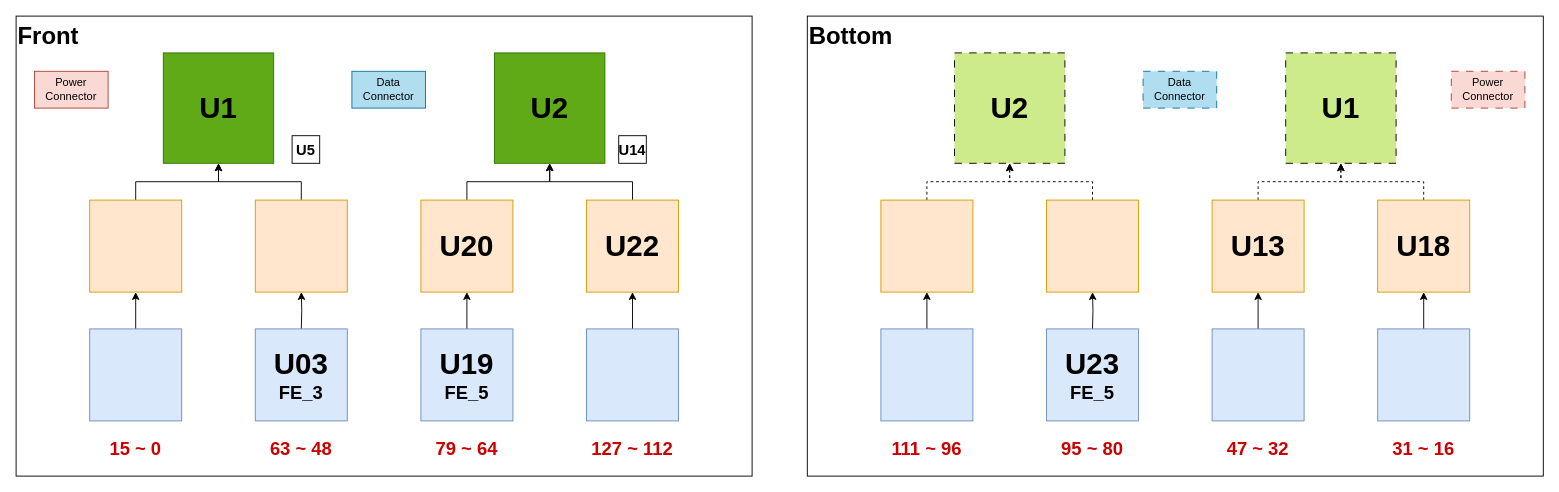
Image size: 1559x492. Some labels were removed from this diagram. The shapes that lost their labels are listed below. From the top down, each one's centre as x and y in pixels, then its label:
At pixel 135 245: "U10".
At pixel 300 245: "U06".
At pixel 926 245: "U26".
At pixel 1092 245: "U24".
At pixel 135 374: "U07 FE_0".
At pixel 632 374: "U21 FE_7".
At pixel 926 374: "U25 FE_6".
At pixel 1257 374: "U11 FE_2".
At pixel 1423 374: "U17 FE_1".
